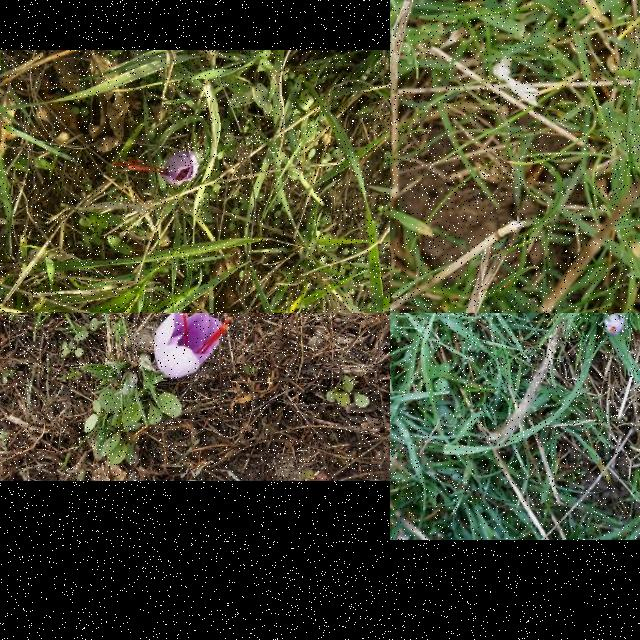flower: (153, 313, 232, 379), (114, 151, 200, 187), (604, 314, 626, 334)
